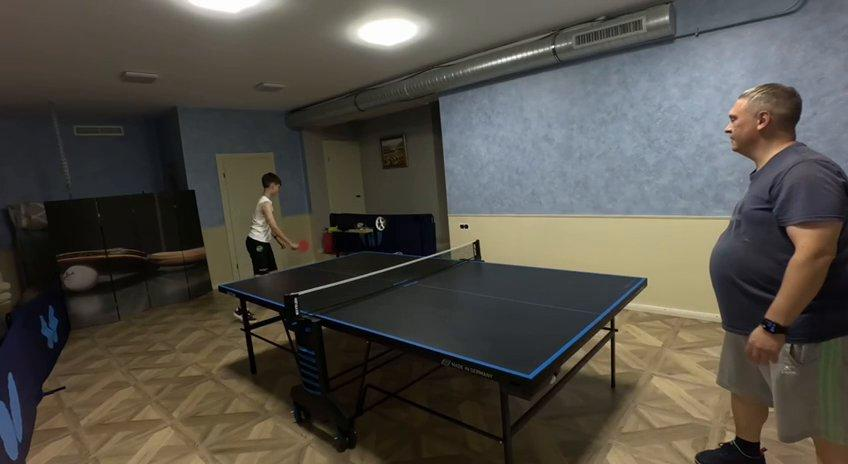Net: (283, 241, 482, 325)
Player1: (246, 172, 297, 274)
Player2: (695, 83, 847, 463)
Table: (222, 252, 645, 378)
